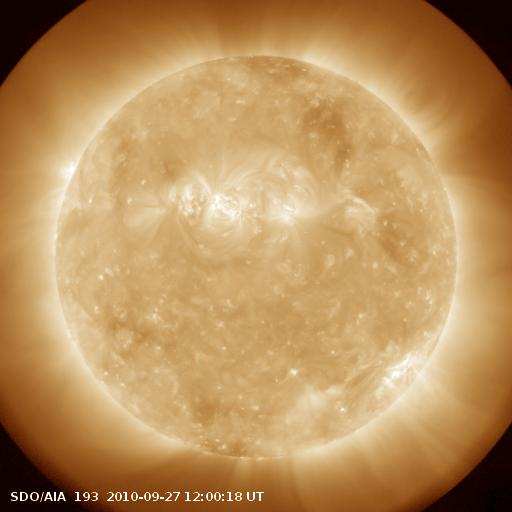coronal_hole: (242, 52, 357, 167)
